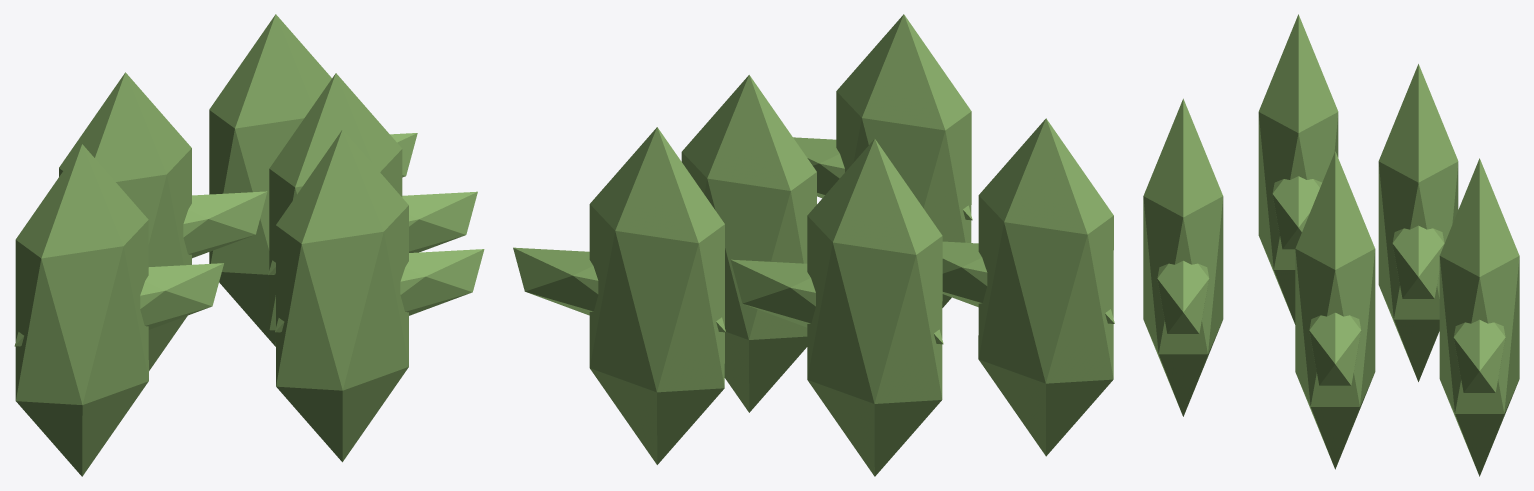
File: plant_wild_root_growing.glb
3 views of the same model, side by side, from view 1: azimuth 30°, elevation 25°; view 2: azimuth 150°, elevation 25°; view 3: azimuth 270°, elevation 25° (orthographic). The views are drawn at different scales.
Parts seen in each view (by area): view 1: plant_wild_root_growing; view 2: plant_wild_root_growing; view 3: plant_wild_root_growing.
Part boxes in pixels (left/top/right/bottom): plant_wild_root_growing: left=14, top=14, right=484, bottom=476; plant_wild_root_growing: left=513, top=14, right=1114, bottom=476; plant_wild_root_growing: left=1143, top=14, right=1519, bottom=476.
Bounding box in the file's own units: 0.4692 × 0.3174 × 0.3206.
